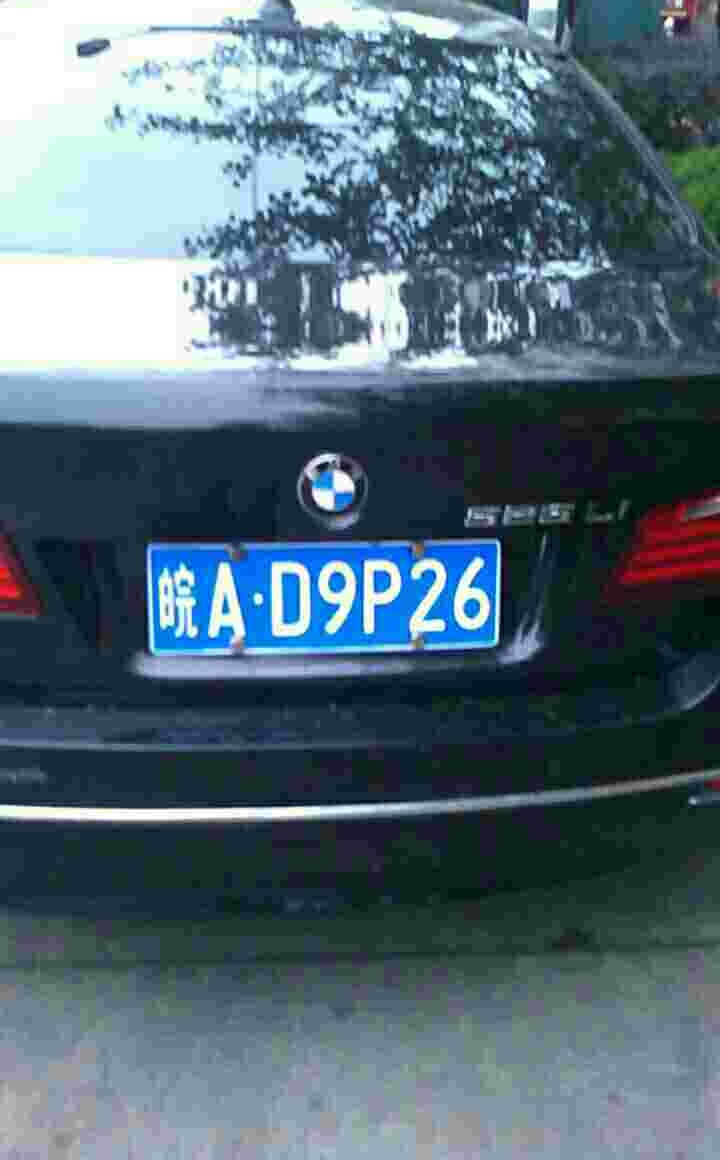license_plate: (145, 529, 511, 663)
